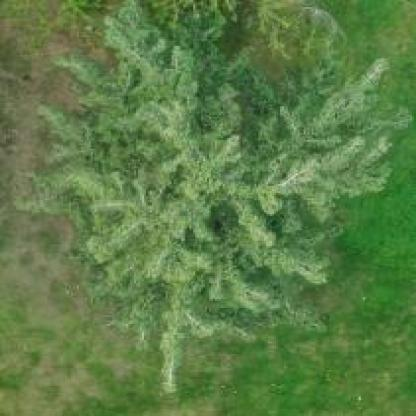Coniferous Tree: (42, 0, 405, 359)
